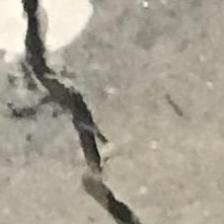Crack: (11, 0, 165, 224)
